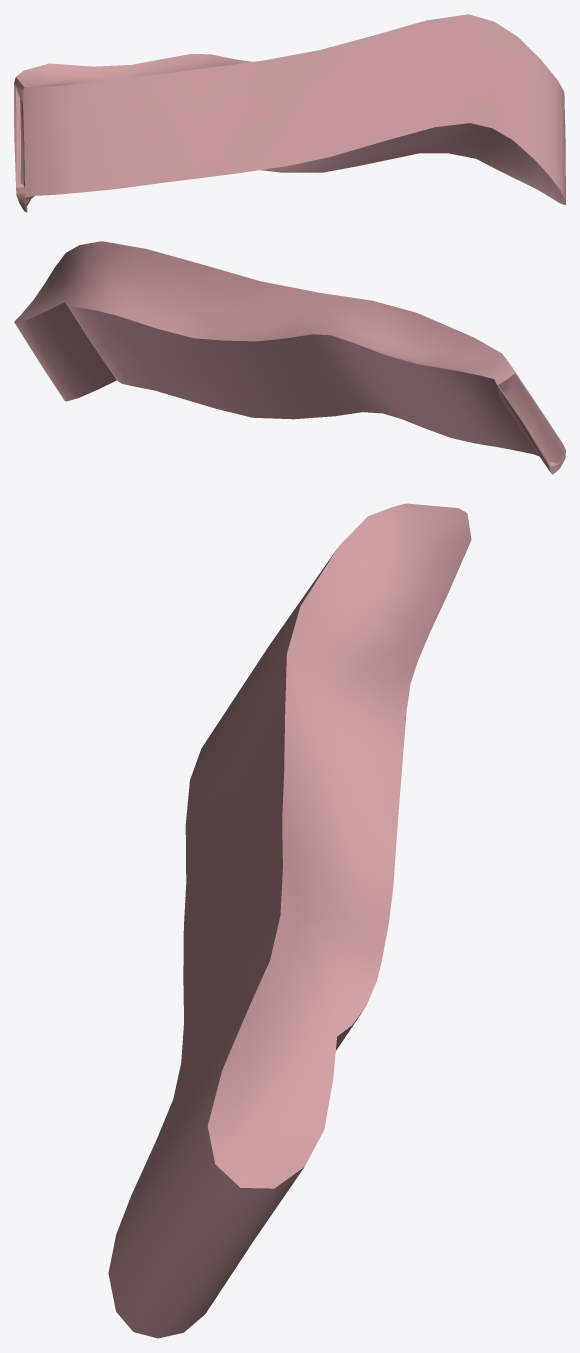
The model's file is fma275419_mm3760.glb.
3 views of the same model, one above another, from view 1: azimuth 30°, elevation 25°; view 2: azimuth 150°, elevation 25°; view 3: azimuth 270°, elevation 25° (orthographic). The views are drawn at different scales.
Visible parts, largest first — view 1: FMA275419_MM3760; view 2: FMA275419_MM3760; view 3: FMA275419_MM3760.
Boxes of the visible parts, left/top/right/bottom form: FMA275419_MM3760: left=14, top=14, right=565, bottom=212; FMA275419_MM3760: left=14, top=241, right=565, bottom=474; FMA275419_MM3760: left=108, top=503, right=471, bottom=1338.
Size of the model in its own units: 0.028 by 0.00985 by 0.00846.
